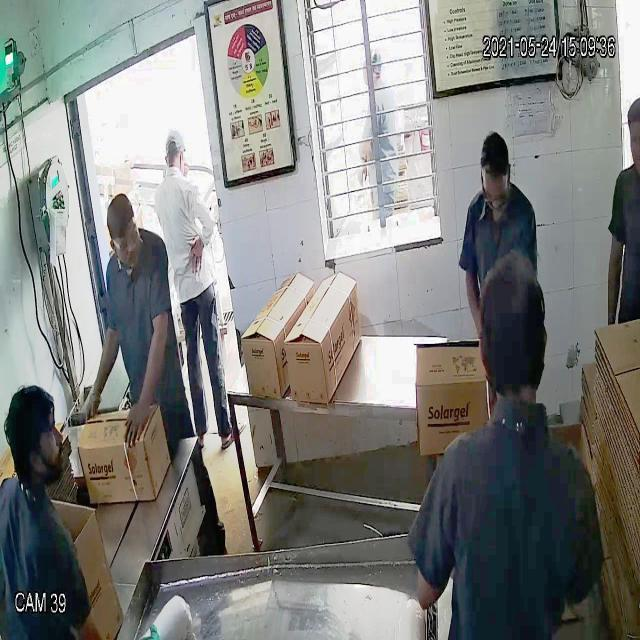glasses: (105, 220, 145, 252)
